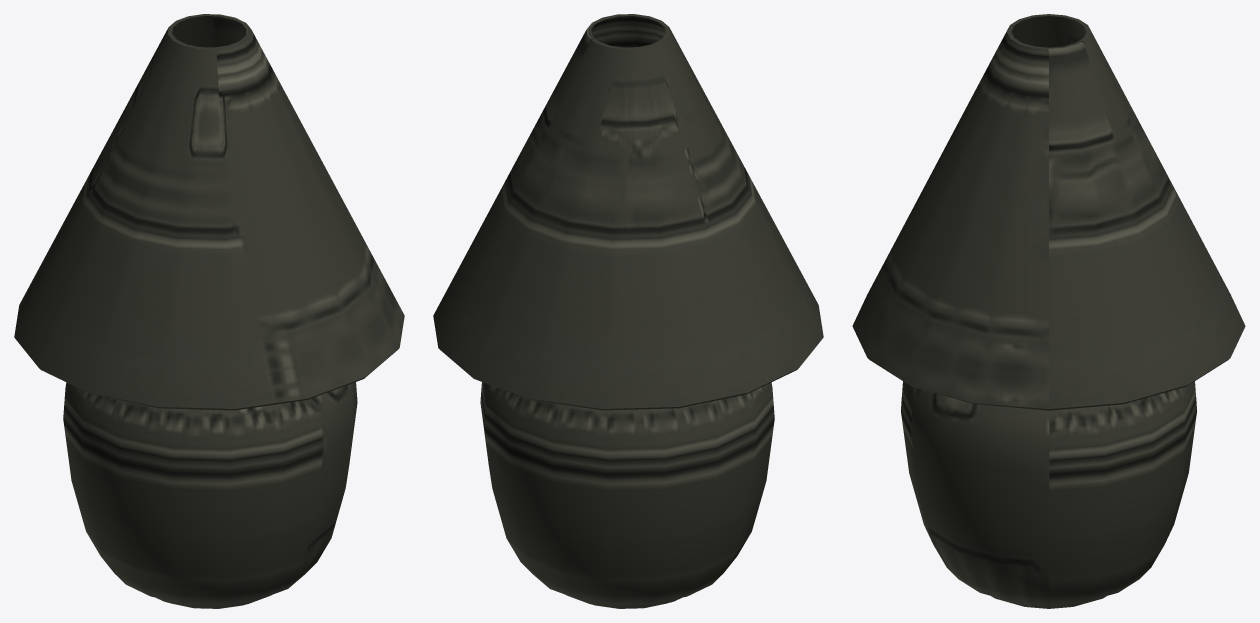
The model's file is TableLamp05.FBX.
3 renders of one model, left to right at view 1: azimuth 30°, elevation 25°; view 2: azimuth 150°, elevation 25°; view 3: azimuth 270°, elevation 25°, orthographic.
Visible parts, largest first — view 1: TableLamp02; view 2: TableLamp02; view 3: TableLamp02.
Part boxes in pixels (<box>): TableLamp02: <box>14,14,404,608</box>; TableLamp02: <box>433,14,823,608</box>; TableLamp02: <box>852,14,1245,608</box>.
Bounding box in the file's own units: 30.88 × 30.88 × 47.66.
